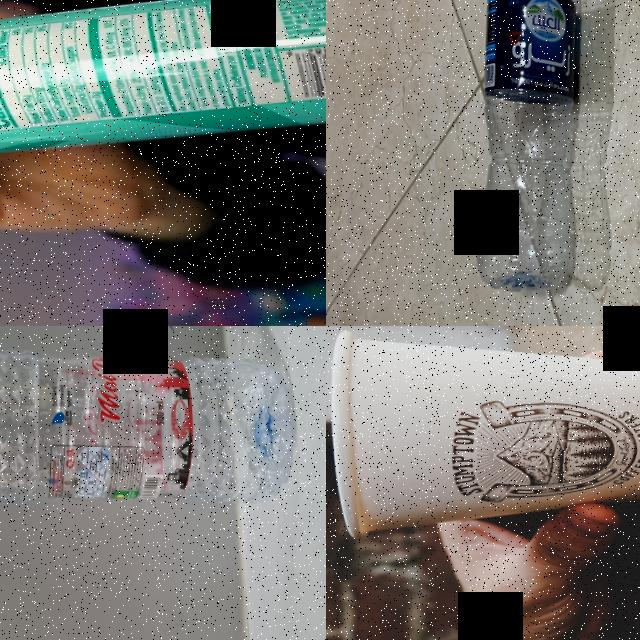bottle: (0, 337, 297, 512), (471, 0, 582, 295)
can: (0, 0, 326, 158)
cup: (327, 326, 640, 539)
